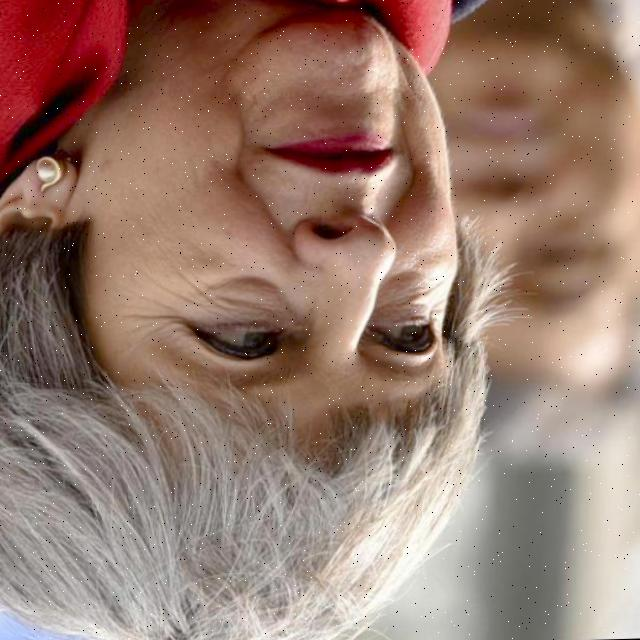puffy_eyes: (203, 279, 286, 309), (384, 276, 433, 310)
